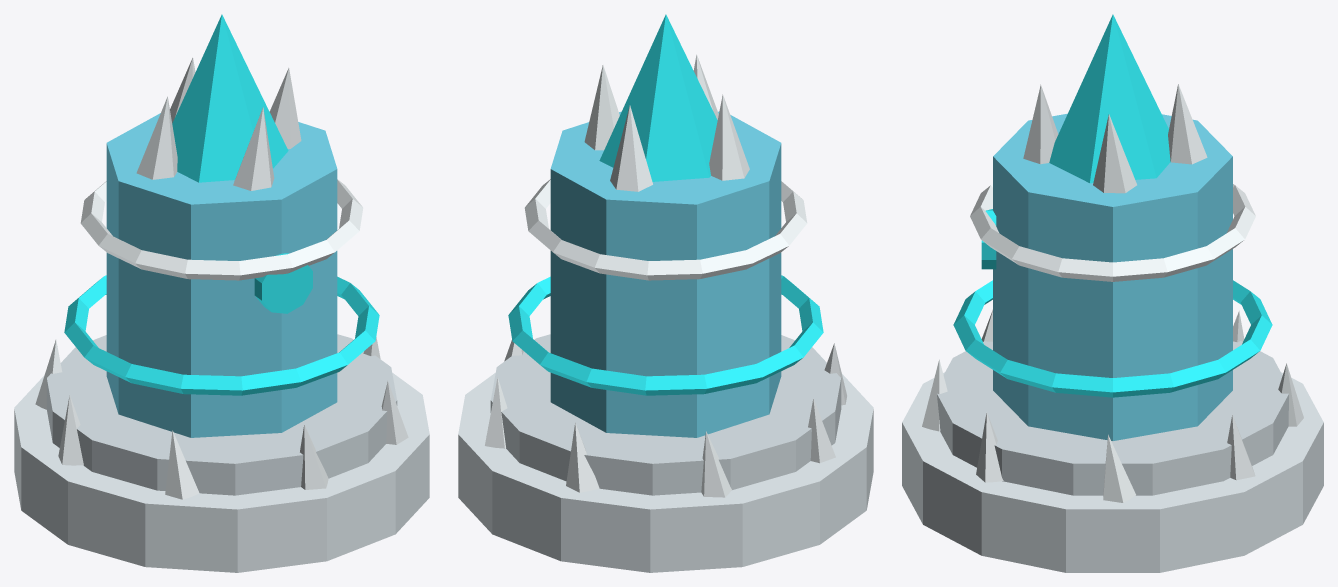
Rendered from TD_SlowTower_T2.fbx.
3 views of the same model, side by side, from view 1: azimuth 30°, elevation 25°; view 2: azimuth 150°, elevation 25°; view 3: azimuth 270°, elevation 25° (orthographic).
Parts seen in each view (by area): view 1: TD_SlowTower_T2_Body, TD_SlowTower_T2_Base, TD_SlowTower_T2_BaseReinforcement, TD_SlowTower_T2_IceCrystal_Main, TD_SlowTower_T2_LowerFrostRing, TD_SlowTower_T2_UpperFrostRing, TD_SlowTower_T2_CyanFocusPoint, TD_SlowTower_T2_IceCrystal_Outer_02, TD_SlowTower_T2_IceCrystal_Outer_04, TD_SlowTower_T2_IceCrystal_Outer_01, TD_SlowTower_T2_IceSpike_06, TD_SlowTower_T2_IceSpike_07 (+3 smaller); view 2: TD_SlowTower_T2_Body, TD_SlowTower_T2_Base, TD_SlowTower_T2_BaseReinforcement, TD_SlowTower_T2_IceCrystal_Main, TD_SlowTower_T2_LowerFrostRing, TD_SlowTower_T2_UpperFrostRing, TD_SlowTower_T2_IceCrystal_Outer_03, TD_SlowTower_T2_IceCrystal_Outer_02, TD_SlowTower_T2_IceCrystal_Outer_01, TD_SlowTower_T2_IceSpike_03, TD_SlowTower_T2_IceSpike_04, TD_SlowTower_T2_IceSpike_05 (+1 smaller); view 3: TD_SlowTower_T2_Body, TD_SlowTower_T2_Base, TD_SlowTower_T2_BaseReinforcement, TD_SlowTower_T2_IceCrystal_Main, TD_SlowTower_T2_LowerFrostRing, TD_SlowTower_T2_UpperFrostRing, TD_SlowTower_T2_IceCrystal_Outer_01, TD_SlowTower_T2_IceCrystal_Outer_03, TD_SlowTower_T2_IceCrystal_Outer_04, TD_SlowTower_T2_IceSpike_01, TD_SlowTower_T2_IceSpike_08, TD_SlowTower_T2_IceSpike_02 (+2 smaller).
Part boxes in pixels (x1,y1,x2,y2): TD_SlowTower_T2_Body: [106, 113, 337, 437]; TD_SlowTower_T2_Base: [14, 373, 429, 572]; TD_SlowTower_T2_BaseReinforcement: [46, 334, 397, 495]; TD_SlowTower_T2_IceCrystal_Main: [172, 14, 288, 182]; TD_SlowTower_T2_LowerFrostRing: [64, 275, 379, 395]; TD_SlowTower_T2_UpperFrostRing: [80, 179, 363, 280]; TD_SlowTower_T2_CyanFocusPoint: [254, 253, 312, 313]; TD_SlowTower_T2_IceCrystal_Outer_02: [136, 96, 177, 179]; TD_SlowTower_T2_IceCrystal_Outer_04: [233, 107, 274, 190]; TD_SlowTower_T2_IceCrystal_Outer_01: [269, 68, 301, 148]; TD_SlowTower_T2_IceSpike_06: [165, 430, 199, 499]; TD_SlowTower_T2_IceSpike_07: [300, 425, 328, 489]; TD_SlowTower_T2_Body: [550, 111, 781, 437]; TD_SlowTower_T2_Base: [458, 373, 873, 572]; TD_SlowTower_T2_BaseReinforcement: [490, 334, 841, 495]; TD_SlowTower_T2_IceCrystal_Main: [599, 14, 717, 181]; TD_SlowTower_T2_LowerFrostRing: [508, 275, 823, 395]; TD_SlowTower_T2_UpperFrostRing: [524, 179, 807, 280]; TD_SlowTower_T2_IceCrystal_Outer_03: [610, 105, 652, 191]; TD_SlowTower_T2_IceCrystal_Outer_02: [709, 94, 749, 180]; TD_SlowTower_T2_IceCrystal_Outer_01: [584, 65, 619, 150]; TD_SlowTower_T2_IceSpike_03: [566, 422, 599, 492]; TD_SlowTower_T2_IceSpike_04: [701, 431, 731, 497]; TD_SlowTower_T2_IceSpike_05: [808, 398, 835, 463]; TD_SlowTower_T2_Body: [993, 113, 1232, 440]; TD_SlowTower_T2_Base: [902, 372, 1323, 572]; TD_SlowTower_T2_BaseReinforcement: [937, 341, 1288, 495]; TD_SlowTower_T2_IceCrystal_Main: [1049, 14, 1170, 183]; TD_SlowTower_T2_LowerFrostRing: [953, 280, 1272, 397]; TD_SlowTower_T2_UpperFrostRing: [970, 184, 1255, 281]; TD_SlowTower_T2_IceCrystal_Outer_01: [1093, 114, 1136, 193]; TD_SlowTower_T2_IceCrystal_Outer_03: [1168, 84, 1207, 164]; TD_SlowTower_T2_IceCrystal_Outer_04: [1023, 84, 1058, 164]; TD_SlowTower_T2_IceSpike_01: [1103, 434, 1135, 502]; TD_SlowTower_T2_IceSpike_08: [976, 412, 1003, 482]; TD_SlowTower_T2_IceSpike_02: [1227, 415, 1255, 480].
Bounding box in the file's own units: 0.9944 × 1.26 × 1.02.
